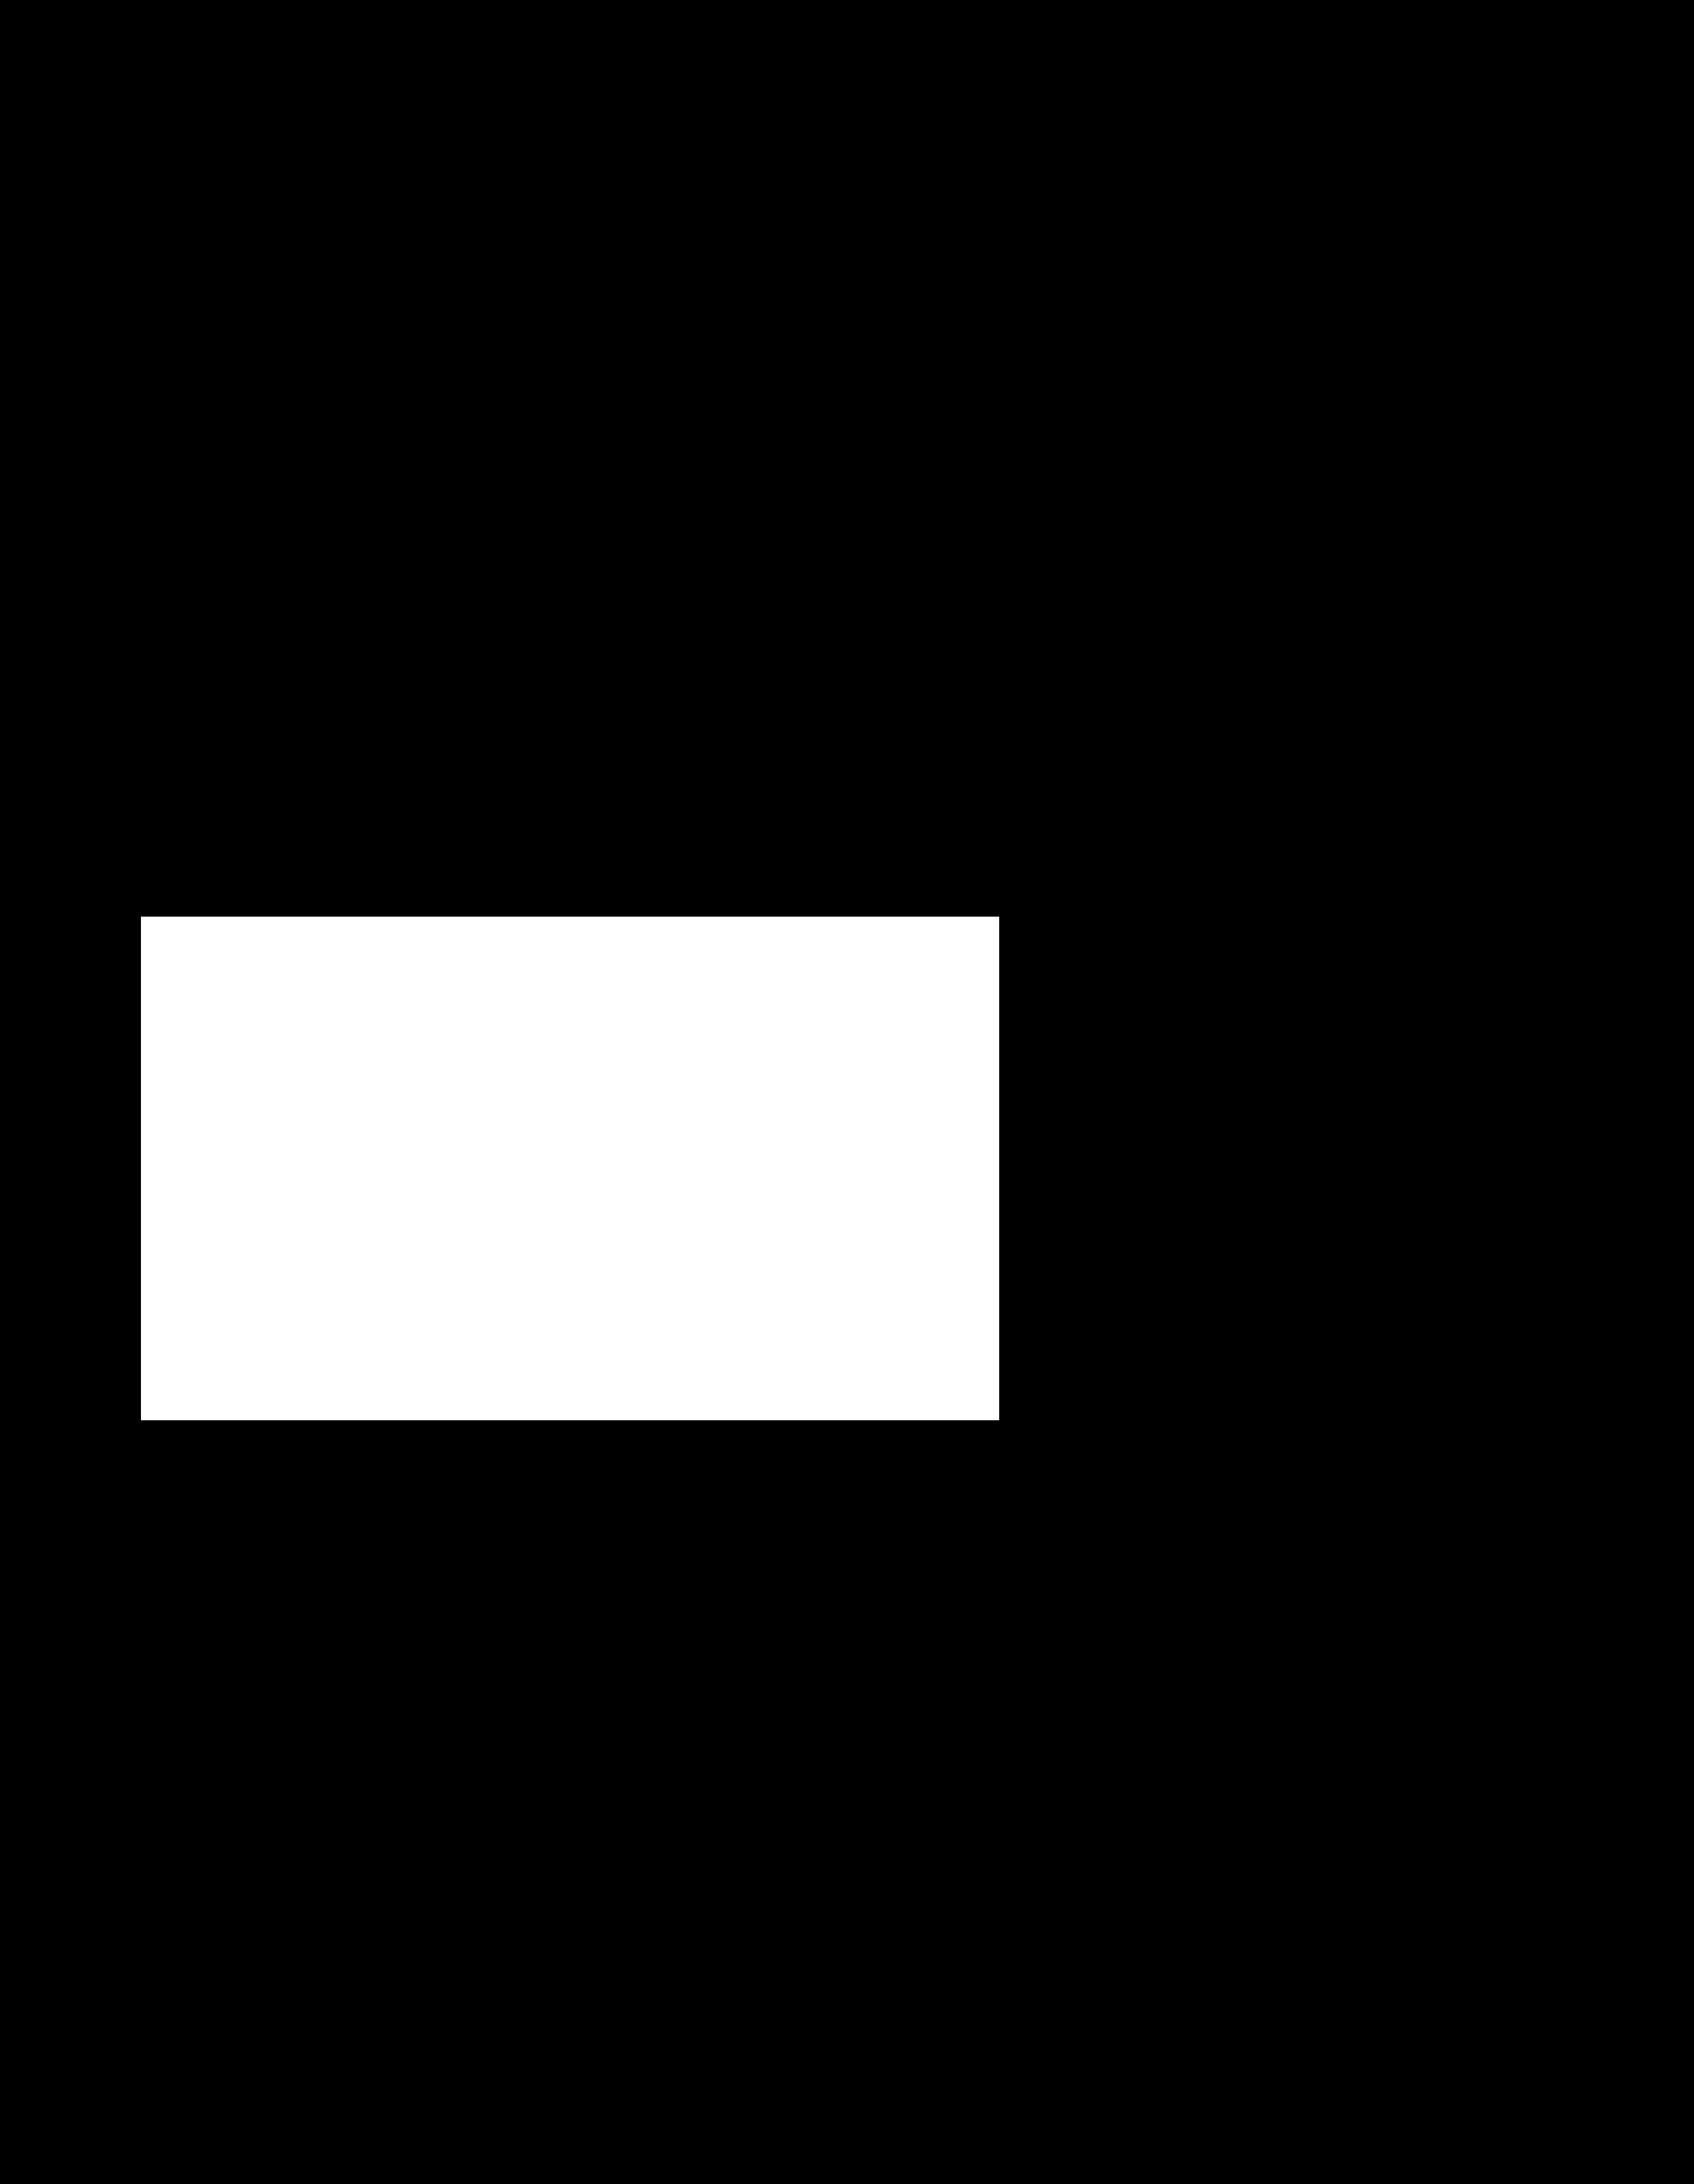table: (142, 916, 999, 1420)
